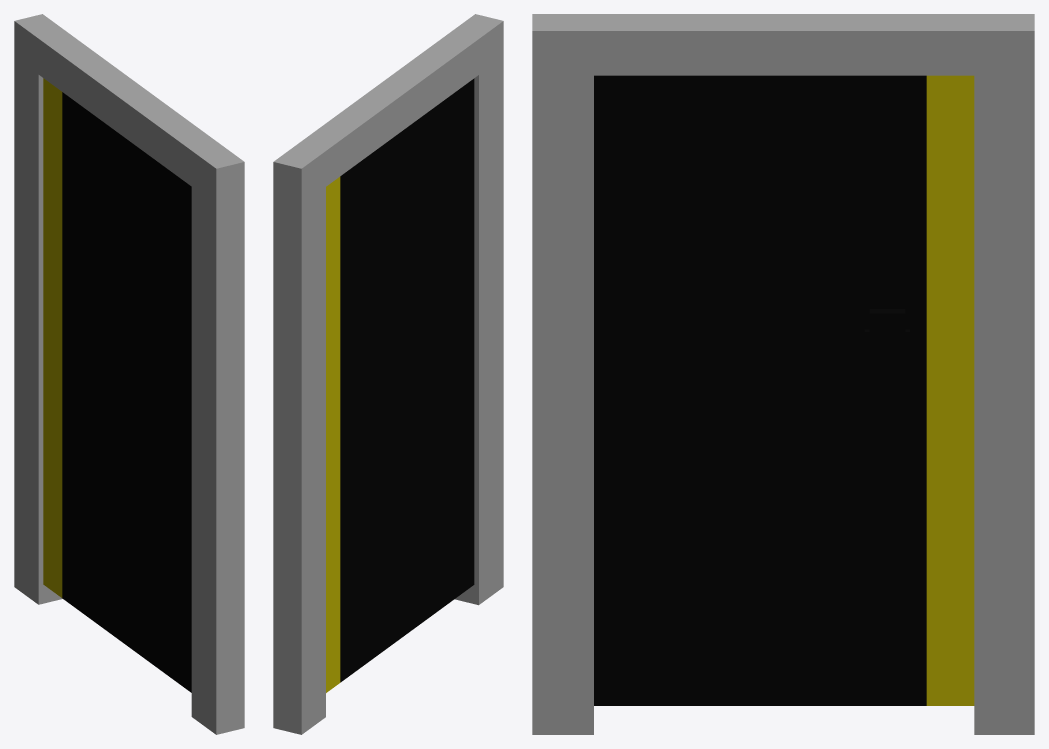
File: BasicDoor.fbx
3 views of the same model, side by side, from view 1: azimuth 30°, elevation 25°; view 2: azimuth 150°, elevation 25°; view 3: azimuth 270°, elevation 25° (orthographic). The views are drawn at different scales.
Visible parts, largest first — view 1: Basic_Door, Edge; view 2: Basic_Door, Edge; view 3: Basic_Door, Edge, pCube2, pCube1.
Part boxes in pixels (x1=…): Basic_Door: x1=43, y1=78, x2=191, y2=692; Edge: x1=14, y1=14, x2=244, y2=734; Basic_Door: x1=326, y1=78, x2=474, y2=692; Edge: x1=273, y1=14, x2=503, y2=734; Basic_Door: x1=594, y1=75, x2=974, y2=705; Edge: x1=532, y1=14, x2=1034, y2=734; pCube2: x1=869, y1=309, x2=905, y2=464; pCube1: x1=864, y1=329, x2=909, y2=429.
Size of the model in its own units: 1.59 by 22.27 by 14.4.
